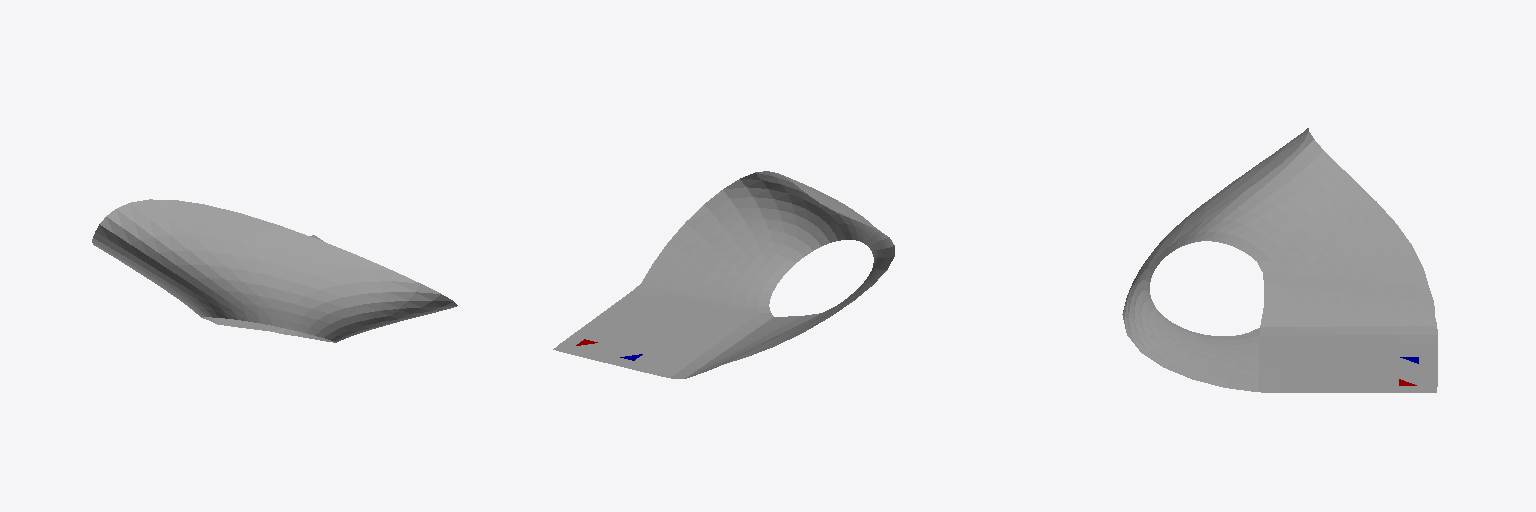
File: bentloop.obj
3 views of the same model, side by side, from view 1: azimuth 30°, elevation 25°; view 2: azimuth 150°, elevation 25°; view 3: azimuth 270°, elevation 25° (orthographic).
Parts seen in each view (by area): view 1: Grid_Grid.001; view 2: Grid_Grid.001; view 3: Grid_Grid.001.
Boxes of the visible parts, x1=… form: Grid_Grid.001: x1=92, y1=199, x2=457, y2=342; Grid_Grid.001: x1=553, y1=171, x2=894, y2=378; Grid_Grid.001: x1=1122, y1=128, x2=1437, y2=392.
Bounding box in the file's own units: 13.84 × 6.47 × 13.15.